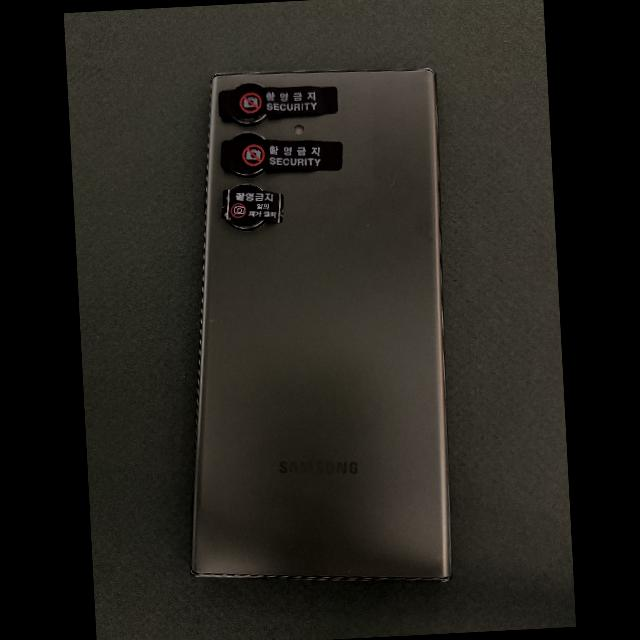lens: (232, 114, 268, 126), (228, 221, 266, 230), (292, 114, 306, 117)
phone: (190, 69, 451, 582)
sticker: (219, 86, 338, 119), (221, 139, 342, 171), (222, 190, 284, 223)
